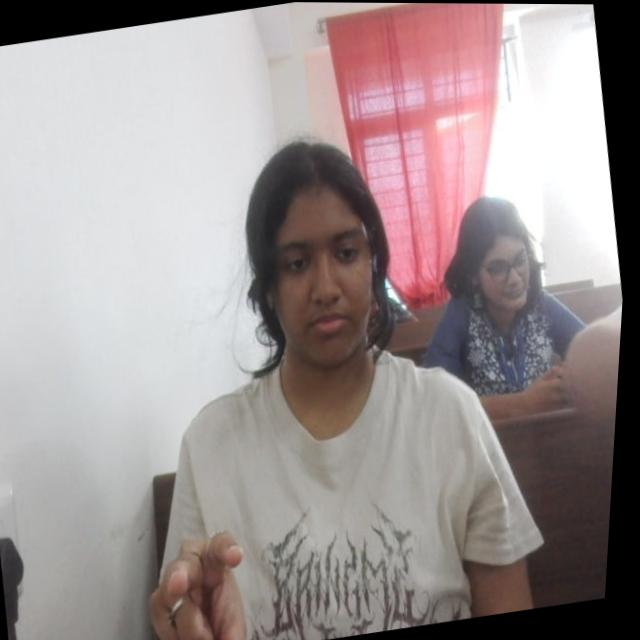no: (140, 520, 271, 640)
